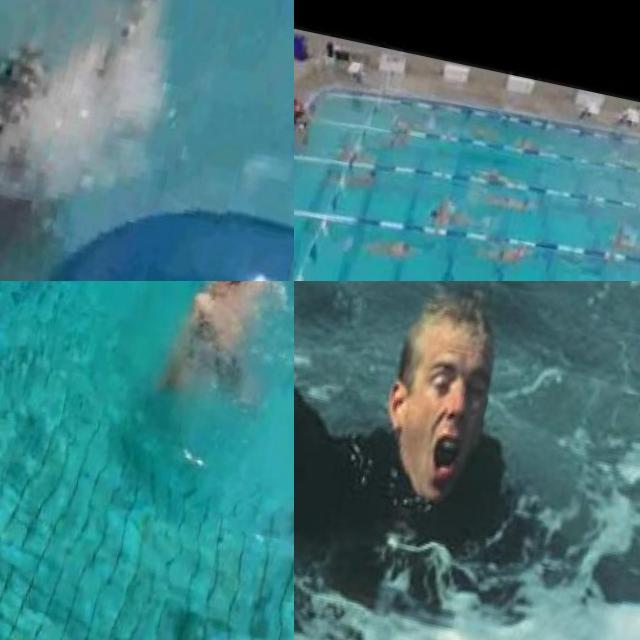drowning: (294, 281, 640, 640), (0, 0, 210, 217), (161, 281, 294, 415)
swimming: (480, 234, 528, 273), (428, 198, 476, 235), (491, 183, 538, 220), (368, 122, 415, 159), (369, 225, 416, 262), (337, 158, 383, 195), (600, 222, 640, 259), (469, 156, 510, 186)
